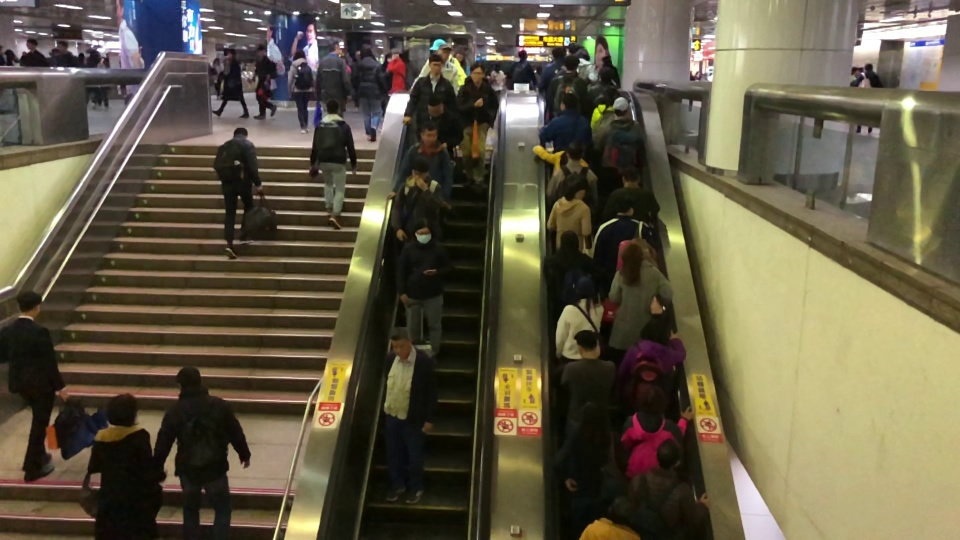person_head: (579, 400, 609, 439), (106, 393, 139, 427), (618, 243, 644, 285), (636, 384, 669, 417), (641, 313, 671, 346), (605, 496, 637, 526), (655, 437, 682, 471), (388, 325, 413, 361), (573, 329, 602, 360), (17, 289, 40, 318), (574, 275, 595, 306), (413, 217, 434, 247), (565, 179, 589, 202), (559, 229, 580, 254), (411, 157, 431, 183), (621, 165, 641, 188), (420, 122, 438, 147), (615, 194, 635, 216), (425, 95, 445, 117), (612, 97, 631, 119), (560, 92, 578, 113), (603, 82, 617, 108), (470, 60, 485, 84), (568, 140, 584, 162), (359, 42, 376, 62), (429, 54, 443, 76), (429, 38, 447, 55), (564, 55, 580, 72), (438, 44, 452, 63), (599, 66, 613, 85), (4, 47, 17, 66), (327, 38, 341, 55), (453, 45, 466, 63), (233, 126, 248, 141), (551, 46, 567, 60), (568, 43, 585, 56), (24, 36, 39, 50), (56, 40, 69, 56), (573, 48, 590, 60), (326, 100, 340, 114), (293, 49, 307, 61), (863, 61, 875, 73), (256, 44, 267, 57), (517, 49, 528, 61), (49, 48, 62, 58), (390, 48, 400, 61), (601, 55, 612, 66), (226, 48, 236, 60), (494, 61, 501, 73)
person_vbox: (151, 366, 251, 540), (1, 288, 69, 482), (79, 391, 164, 540), (611, 437, 710, 540), (381, 326, 438, 504), (394, 217, 453, 365), (607, 243, 673, 366), (619, 386, 696, 480), (551, 400, 620, 503), (618, 315, 686, 413), (214, 126, 263, 259), (310, 98, 358, 229), (560, 329, 617, 437), (595, 196, 656, 295), (386, 120, 455, 206), (402, 55, 463, 146), (456, 62, 499, 191), (390, 156, 451, 245), (544, 229, 600, 315), (599, 95, 647, 187), (556, 276, 604, 361), (538, 93, 593, 158), (546, 141, 599, 208), (602, 163, 660, 224), (545, 180, 592, 252), (356, 42, 389, 143), (314, 38, 354, 120), (412, 97, 463, 161), (577, 493, 642, 540), (211, 48, 250, 119), (545, 56, 588, 117), (849, 62, 884, 135), (412, 44, 460, 96), (286, 49, 314, 133), (532, 142, 590, 177), (429, 39, 467, 89), (253, 45, 277, 120), (587, 67, 622, 118), (387, 47, 422, 93), (505, 48, 537, 91), (538, 47, 567, 93), (590, 88, 615, 133), (20, 35, 48, 67), (573, 47, 598, 82), (54, 38, 81, 68), (175, 365, 202, 395), (598, 54, 621, 88), (489, 60, 508, 93), (452, 46, 470, 78)
